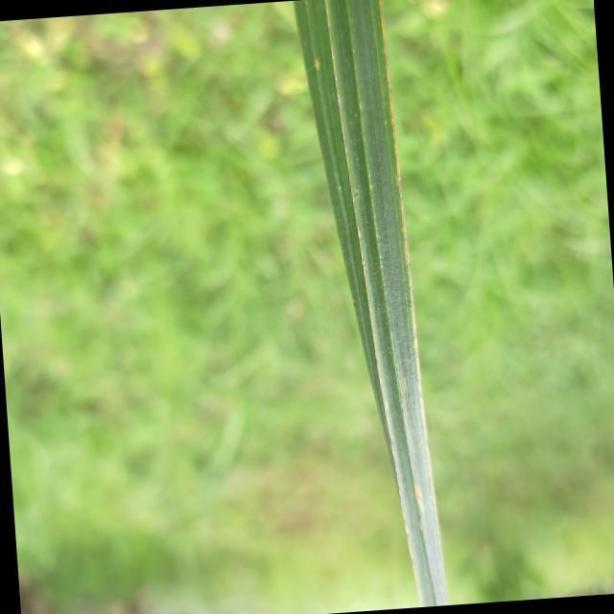Boron: (295, 3, 451, 614)
